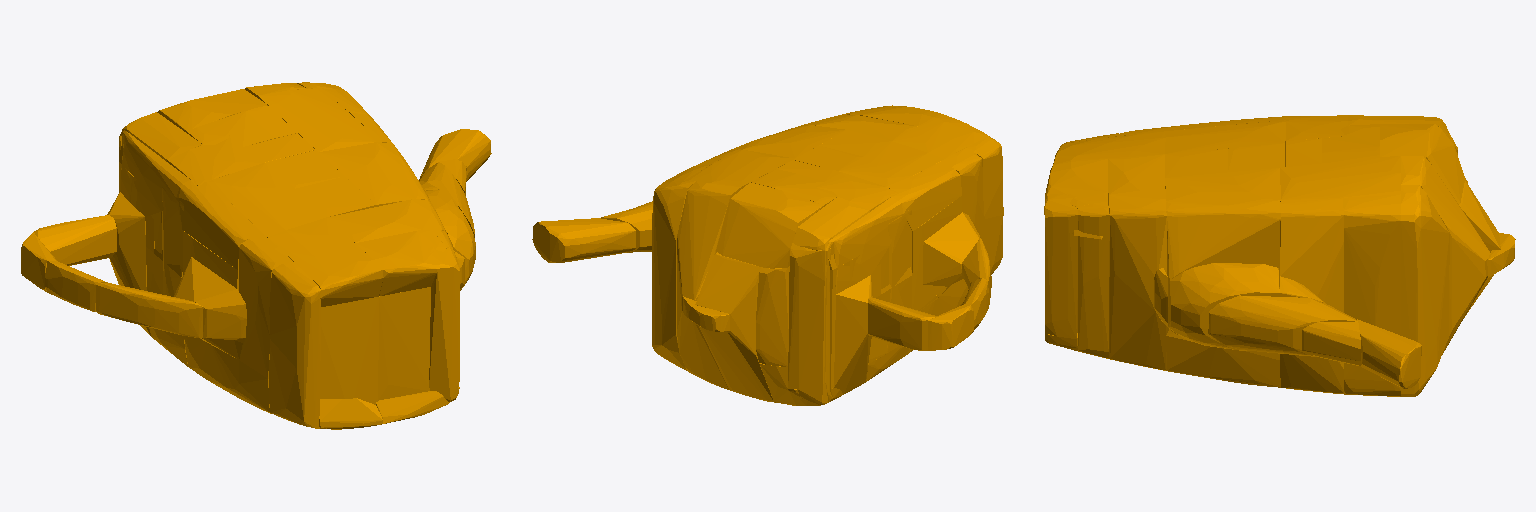
The robot description file, URDF, robot "teapot-white":
<?xml version="1.0" ?>
<robot name="teapot-white">
  <link name="baseLink">
    <contact>
      <lateral_friction value="1.0"/>
      <inertia_scaling value="3.0"/>
    </contact>
    <inertial>
      <origin rpy="0 0 0" xyz="0.000 0.000 0.000"/>
       <mass value=".1"/>
       <inertia ixx="1" ixy="0.0" ixz="0.0" iyy="1" iyz="0.0" izz="1"/>
    </inertial>
    <visual>
      <origin rpy="0 0 0" xyz="0 0 0"/>
      <geometry>
        <mesh filename="teapot/teapot-white_malacasa.obj" scale="1.0 1.0 1.0"/>
      </geometry>
    </visual>
    <collision>
      <origin rpy="0 0 0" xyz="0 0 0"/>
      <geometry>
        <mesh filename="../collision/teapot/teapot-white_malacasa.obj" scale="1.0 1.0 1.0"/>
      </geometry>
    </collision>
  </link>
</robot>
        

--- Facts derived from the render (not from the file) ---
The picture shows the robot from 3 angles, left to right: view 1: azimuth 30°, elevation 25°; view 2: azimuth 150°, elevation 25°; view 3: azimuth 270°, elevation 25°; orthographic projection.
Model teapot-white with 1 links and 0 joints (none), rooted at baseLink, posed every joint at zero.
Visible links, largest first — view 1: baseLink; view 2: baseLink; view 3: baseLink.
Link boxes in pixels (left/top/right/bottom): baseLink: left=21, top=82, right=491, bottom=429; baseLink: left=532, top=105, right=1003, bottom=405; baseLink: left=1044, top=115, right=1515, bottom=396.
Size in the robot's own frame: 0.2148 by 0.1876 by 0.0954 metres.
1 mesh visuals loaded from 1 distinct referenced files (1 OBJ).